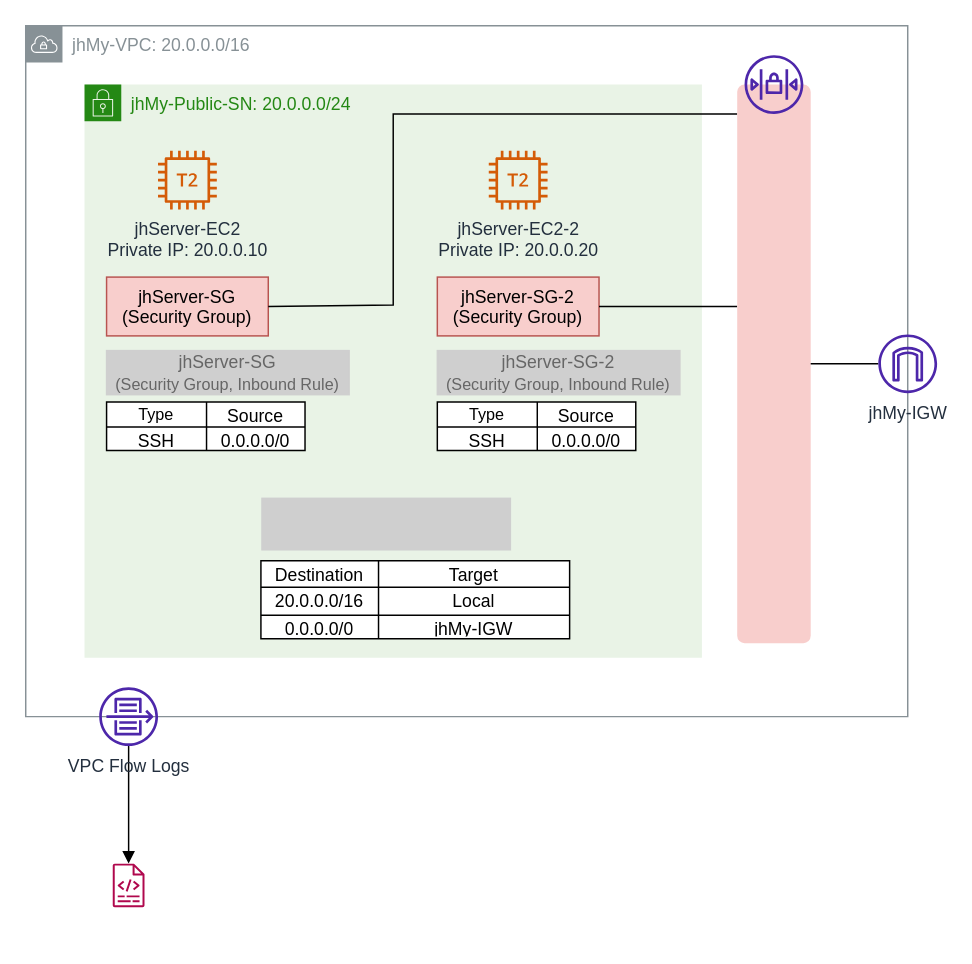
The diagram is 972 pixels wide and 964 high, and some of its shapes have lost their labels. The centre of each missing label's shape, as x and y in pixels:
CloudWatch Logs: point 127,885
jhMy-Public-RT (Public Subnet Routing Table): point 385,523
Network ACL: point 773,83
